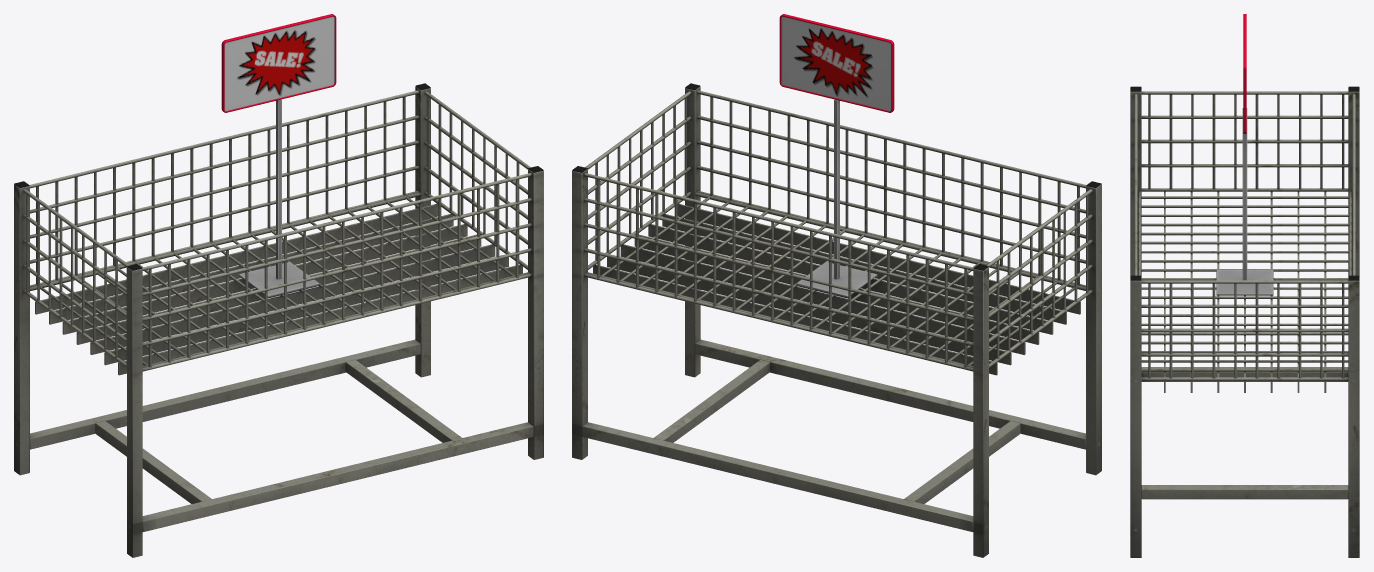
File: video_store_bargain_table.dae
3 renders of one model, left to right at view 1: azimuth 30°, elevation 25°; view 2: azimuth 150°, elevation 25°; view 3: azimuth 270°, elevation 25°, orthographic. The views are drawn at different scales.
Visible parts, largest first — view 1: Mesh58_Group66_Group61_Group1_Model; view 2: Mesh58_Group66_Group61_Group1_Model; view 3: Mesh58_Group66_Group61_Group1_Model.
Part boxes in pixels (box(x1,y1,x2,y2)): Mesh58_Group66_Group61_Group1_Model: box(14, 14, 543, 557); Mesh58_Group66_Group61_Group1_Model: box(572, 14, 1101, 557); Mesh58_Group66_Group61_Group1_Model: box(1130, 14, 1359, 557).
Bounding box in the file's own units: 1.2 × 0.6 × 1.22.
